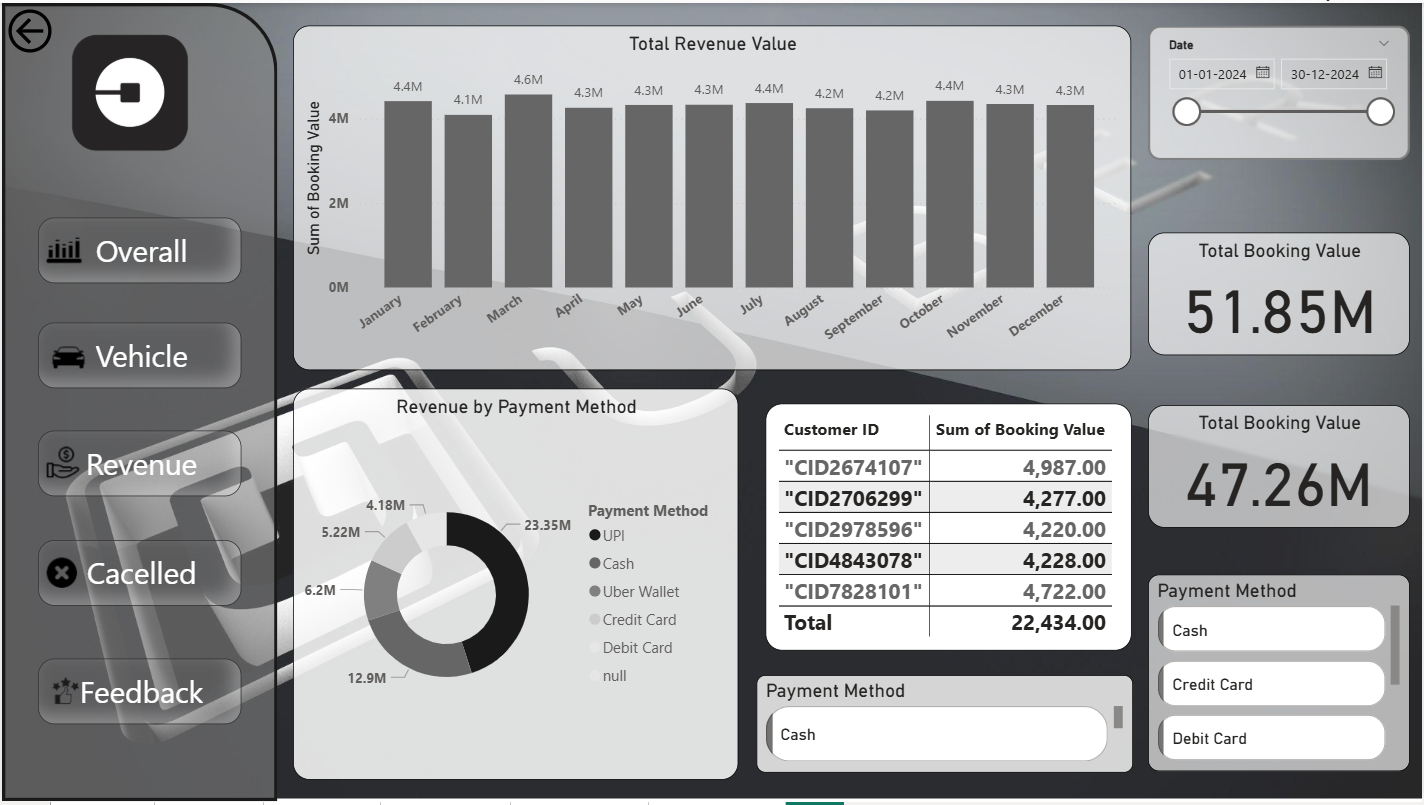

The dashboard page shown, as its layout file describes it:
{"tool":"powerbi","page":{"name":"Revenue","canvas":[1280,720],"ordinal":3},"visuals":[{"type":"shape","box":[0,0,248.3,719.2],"z":0},{"type":"image","box":[0,16.7,230.2,128.7],"z":1000},{"type":"actionButton","box":[31.8,193.8,183.2,59.1],"z":2000},{"type":"actionButton","box":[31.8,484.5,183.2,59.1],"z":3000},{"type":"actionButton","box":[31.8,287.7,183.2,59.1],"z":4000},{"type":"actionButton","box":[31.8,384.6,183.2,59.1],"z":5000},{"type":"actionButton","box":[31.8,590.5,183.2,59.1],"z":6000},{"type":"slicer","fields":{"Values":["ncr_ride_bookings.Date"]},"box":[1032.7,19.7,236.2,121.1],"z":7000},{"type":"card","title":"Total Booking Value","fields":{"Values":["Sum(ncr_ride_bookings.Booking Value)"]},"box":[1032.7,207.4,236.2,110.5],"z":8000},{"type":"donutChart","title":"Revenue by Payment Method","fields":{"Category":["ncr_ride_bookings.Payment Method"],"Y":["Sum(ncr_ride_bookings.Booking Value)"]},"box":[262,346.8,401.3,352.8],"z":9000},{"type":"advancedSlicerVisual","fields":{"Values":["ncr_ride_bookings.Payment Method"]},"box":[679.9,605.7,339.2,87.8],"z":10000},{"type":"clusteredColumnChart","title":"Total Revenue Value ","fields":{"Y":["Sum(ncr_ride_bookings.Booking Value)"],"Category":["ncr_ride_bookings.Date.Variation.Date Hierarchy.Year","ncr_ride_bookings.Date.Variation.Date Hierarchy.Quarter","ncr_ride_bookings.Date.Variation.Date Hierarchy.Month","ncr_ride_bookings.Date.Variation.Date Hierarchy.Day"]},"box":[262,19.7,755.6,310.4],"z":11000},{"type":"tableEx","fields":{"Values":["ncr_ride_bookings.Customer ID","Sum(ncr_ride_bookings.Booking Value)"]},"box":[687.4,360.4,330.1,222.6],"z":12000},{"type":"card","title":"Total Booking Value","fields":{"Values":["ncr_ride_bookings.Success Booking Value"]},"box":[1032.7,361.9,236.2,110.5],"z":13000},{"type":"advancedSlicerVisual","fields":{"Values":["ncr_ride_bookings.Payment Method"]},"box":[1032.7,514.8,236.2,177.2],"z":14000},{"type":"actionButton","box":[0,0,114.7,50.4],"z":15000}]}

Visuals, with their boxes in screenshot pixels (x1, y1, x2, y2), scaled from the page's 1280x720 canvas onto the 1424x805 screenshot:
shape: [x1=0, y1=0, x2=276, y2=804]
image: [x1=0, y1=19, x2=256, y2=163]
actionButton: [x1=35, y1=217, x2=239, y2=283]
actionButton: [x1=35, y1=542, x2=239, y2=608]
actionButton: [x1=35, y1=322, x2=239, y2=388]
actionButton: [x1=35, y1=430, x2=239, y2=496]
actionButton: [x1=35, y1=660, x2=239, y2=726]
slicer - ncr_ride_bookings.Date: [x1=1149, y1=22, x2=1412, y2=157]
"Total Booking Value" card: [x1=1149, y1=232, x2=1412, y2=355]
"Revenue by Payment Method" donutChart: [x1=291, y1=388, x2=738, y2=782]
advancedSlicerVisual - ncr_ride_bookings.Payment Method: [x1=756, y1=677, x2=1134, y2=775]
"Total Revenue Value " clusteredColumnChart: [x1=291, y1=22, x2=1132, y2=369]
tableEx - ncr_ride_bookings.Customer ID x Sum(ncr_ride_bookings.Booking Value): [x1=765, y1=403, x2=1132, y2=652]
"Total Booking Value" card: [x1=1149, y1=405, x2=1412, y2=528]
advancedSlicerVisual - ncr_ride_bookings.Payment Method: [x1=1149, y1=576, x2=1412, y2=774]
actionButton: [x1=0, y1=0, x2=128, y2=56]
